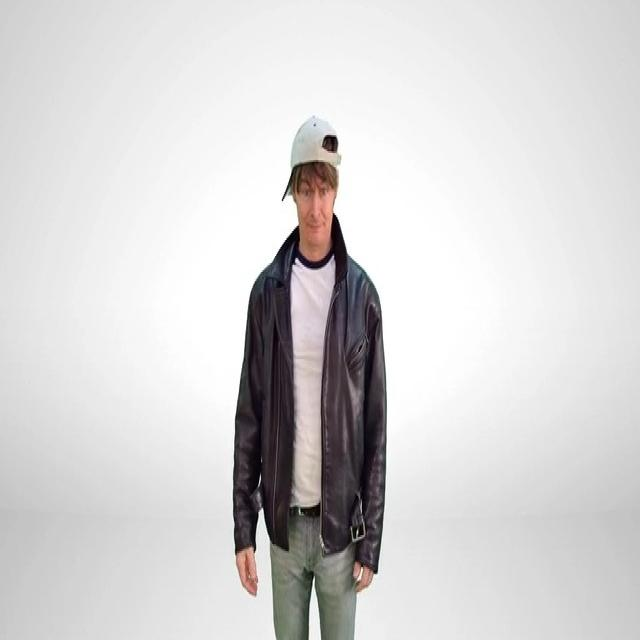Jacket_Wearer: (223, 225, 386, 551)
Person: (226, 115, 390, 640)
